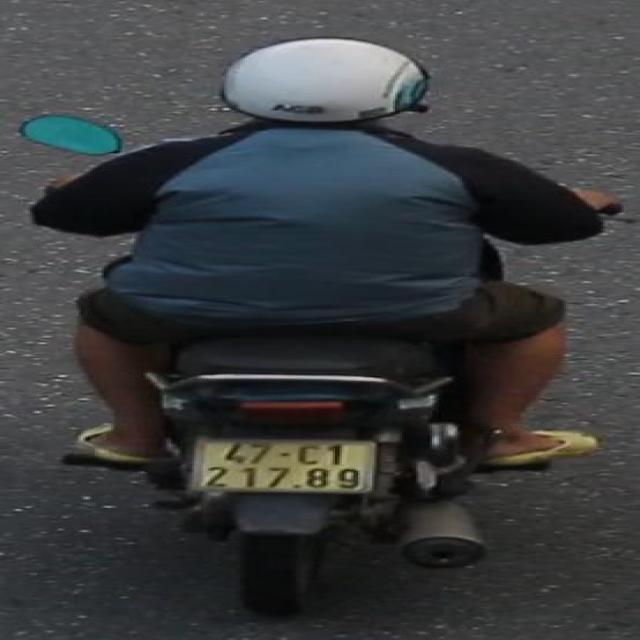LP: (188, 436, 385, 499)
helmet: (213, 32, 441, 140)
